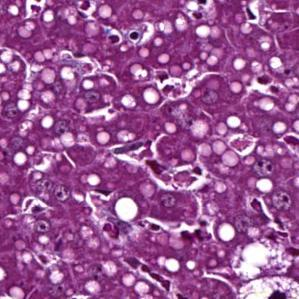ballooning: (227, 238, 292, 281)
